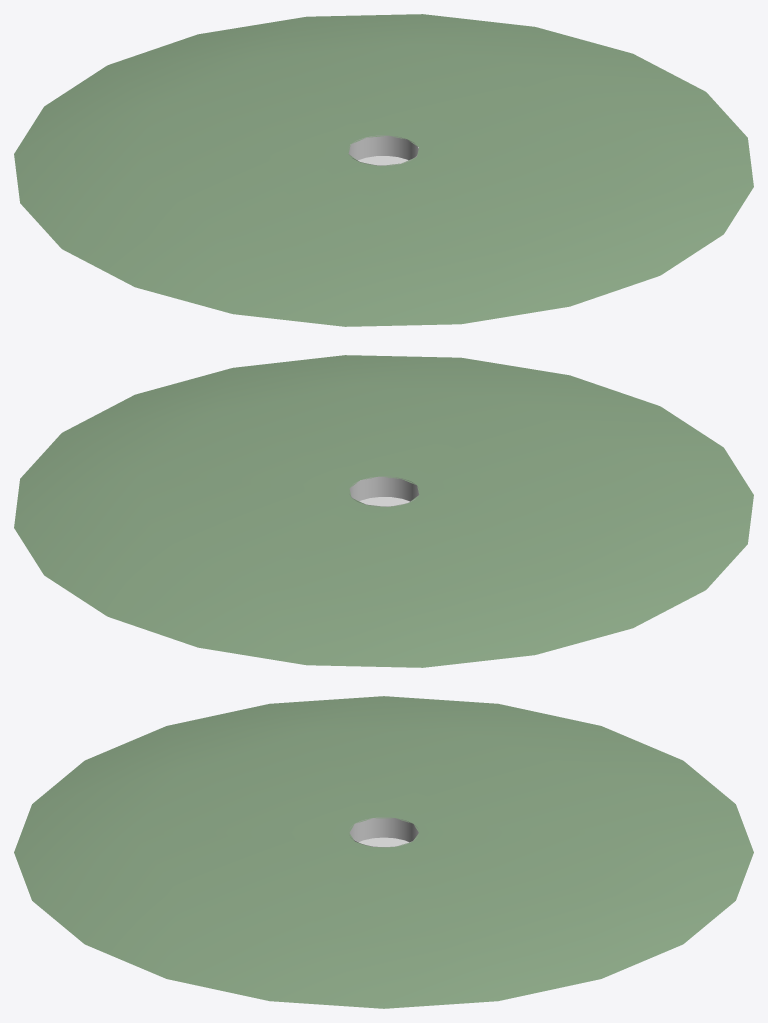
File: goalArea.fbx
The picture shows the model from 3 angles, top to bottom: view 1: azimuth 30°, elevation 25°; view 2: azimuth 150°, elevation 25°; view 3: azimuth 270°, elevation 25°; orthographic projection.
Visible parts, largest first — view 1: pDisc2; view 2: pDisc2; view 3: pDisc2.
Boxes of the visible parts, x1,y1,x2,y2 form: pDisc2: (14, 14, 753, 326); pDisc2: (14, 355, 753, 667); pDisc2: (14, 696, 753, 1008).
Bounding box in the file's own units: 4.5 × 0.1359 × 4.5.
